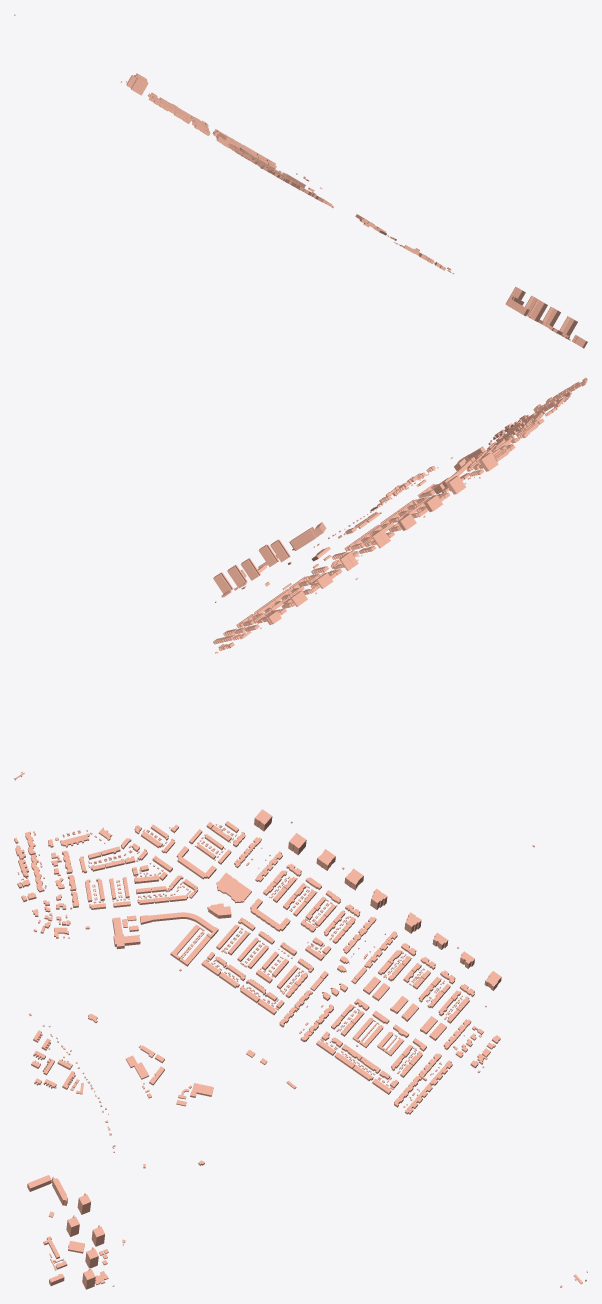
The picture shows the model from 3 angles, top to bottom: view 1: azimuth 30°, elevation 25°; view 2: azimuth 150°, elevation 25°; view 3: azimuth 270°, elevation 25°; orthographic projection. The views are drawn at different scales.
Size of the model in its own units: 991 by 764 by 1278.
